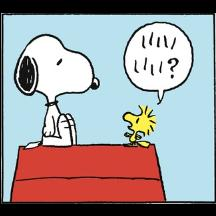snoopy: (12, 32, 100, 150)
